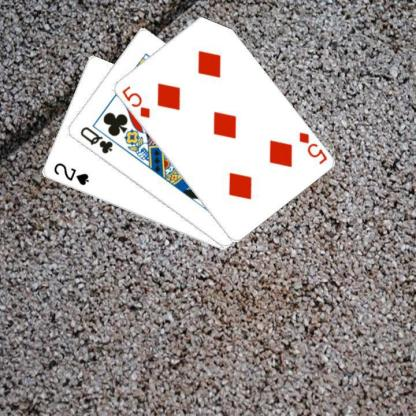2S: (51, 160, 90, 187)
5D: (119, 83, 151, 120), (296, 129, 328, 166)
QC: (77, 124, 114, 155)
